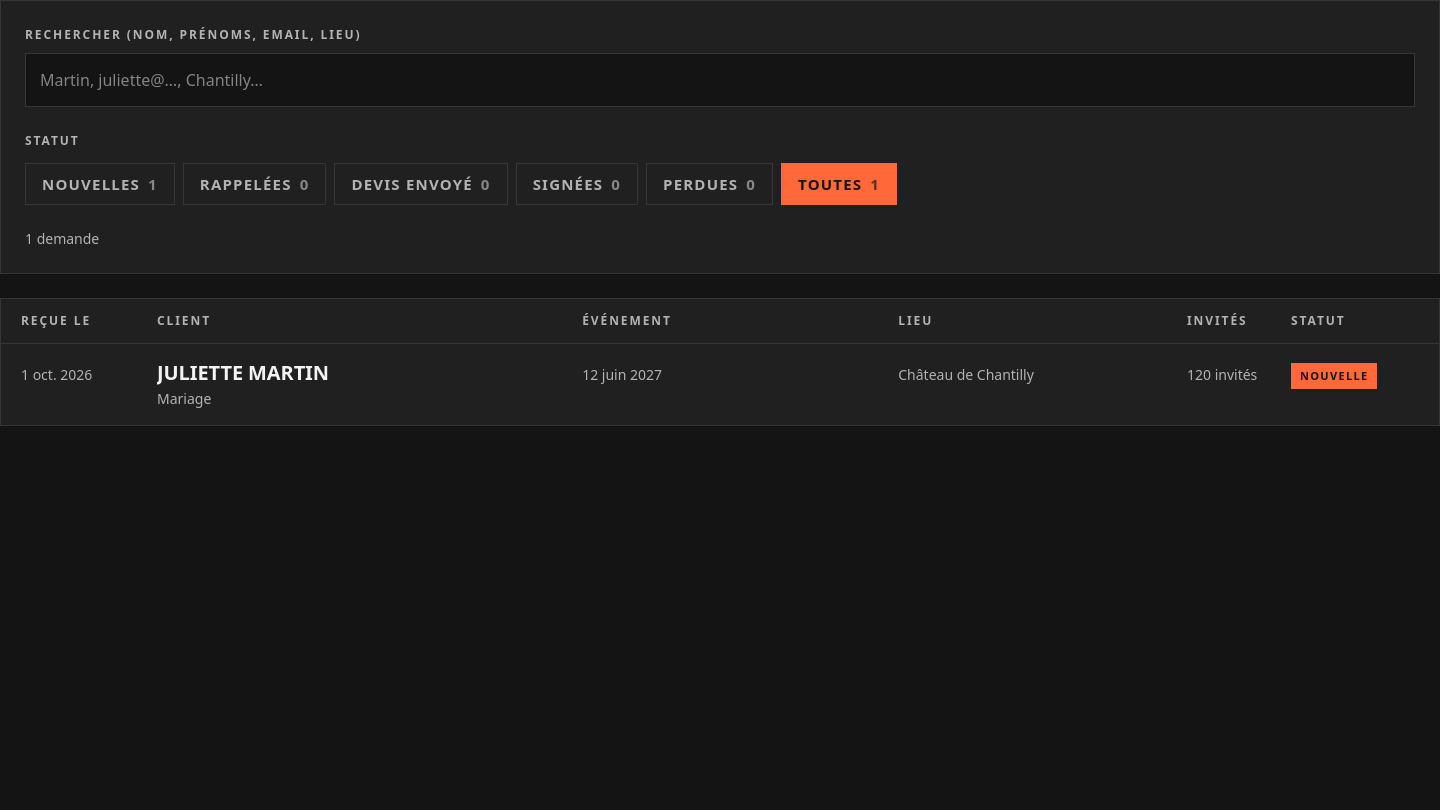
Test: GestionDemandes — fiche › montre tout, avec les liens appeler / écrire / WhatsApp, et le message en texte brut
Click the button with aria-label "Ouvrir la demande de Juliette Martin" at (243, 373), box x1=157 y1=360 x2=329 y2=385
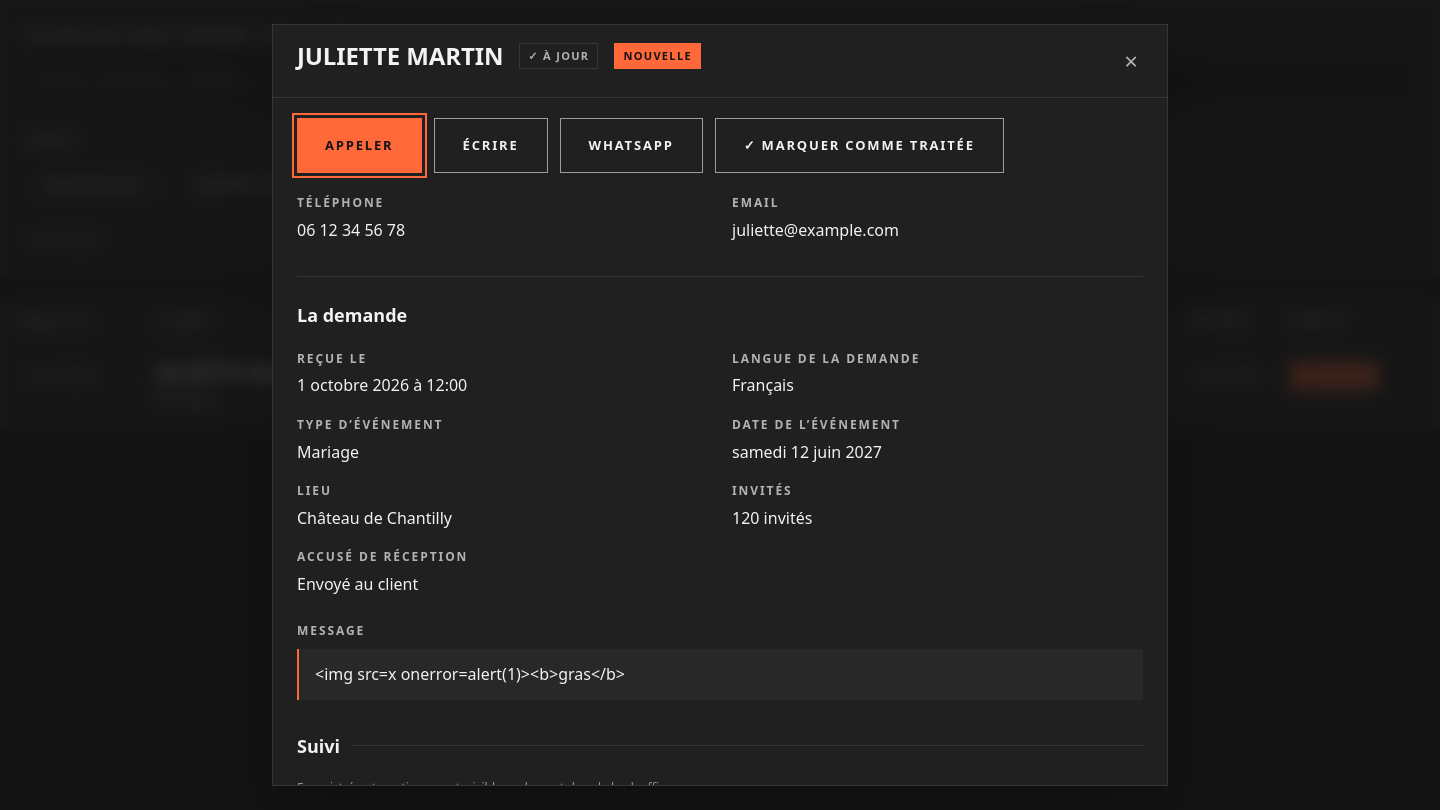
Expected: the dialog "Juliette Martin" shows "06 12 34 56 78", x1=297 y1=219 x2=405 y2=241
Expected: the dialog "Juliette Martin" shows "1 octobre 2026 à 12:00", x1=297 y1=374 x2=467 y2=396
Expected: the dialog "Juliette Martin" shows "samedi 12 juin 2027", x1=732 y1=441 x2=882 y2=463
